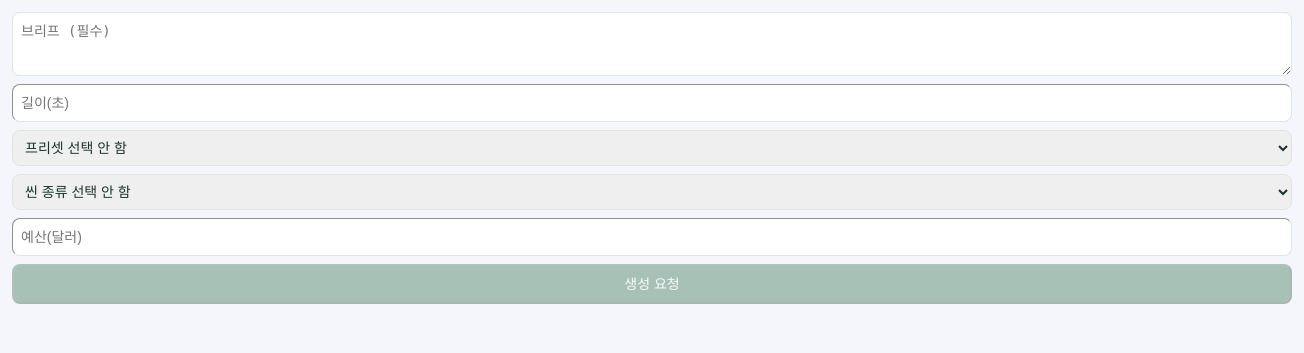
Test: FormComposer › warns (without blocking submit) when budget exceeds the $10 cap
The width and height of the screenshot is (1304, 353).
Type "할로윈 이벤트" into the text box labelled "브리프" at (652, 44), box [12,12,1292,76]
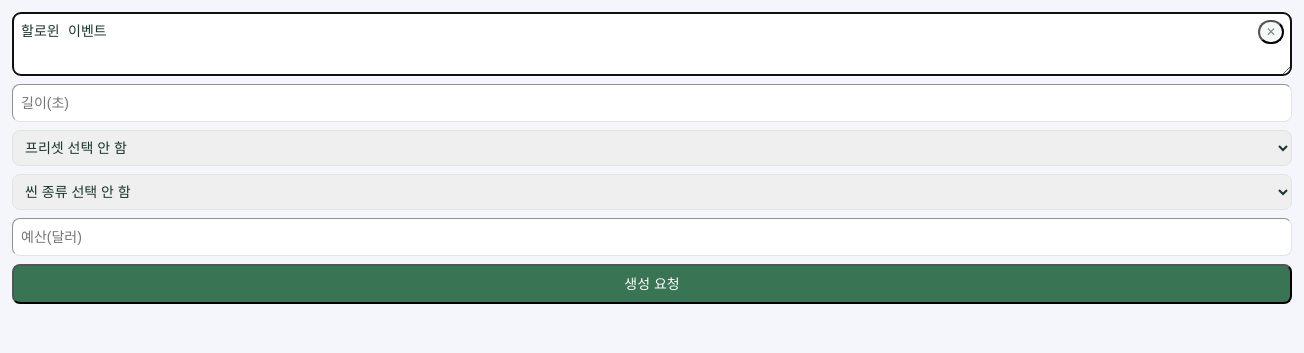
Type "50" into the field labelled "예산(달러)" at (652, 237), box [12,218,1292,256]
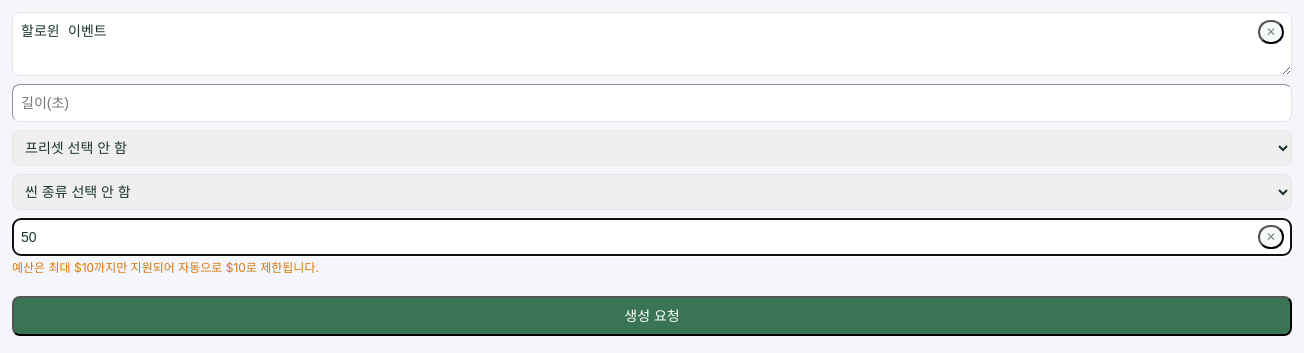
Now the button "생성 요청" is enabled, box [12,296,1292,336]
Now the text "예산은 최대 $10까지만 지원되어 자동으로 $10로 제한됩니다." is shown, box [12,260,319,275]
